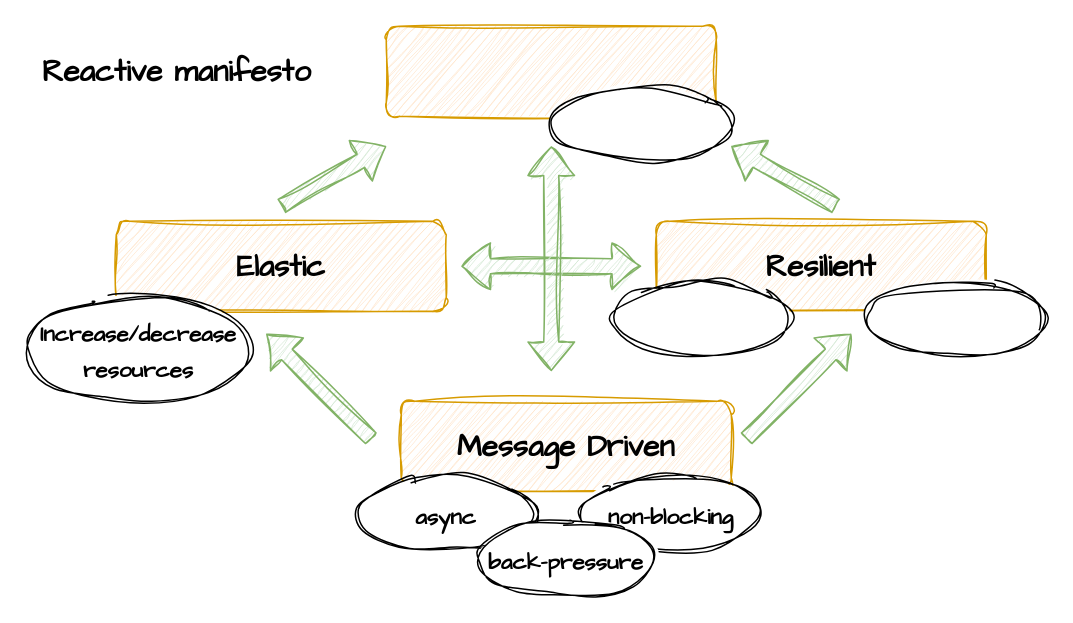
Some shapes in this 1073 by 623 pixel diagram are drawn without their labels. Here are the shapes that lost their labels. From the top down, the centre of each, then its label:
At point (550, 70): "Responsive".
At point (640, 123): "Available".
At point (700, 318): "Use replication".
At point (955, 318): "Use Isolation".
